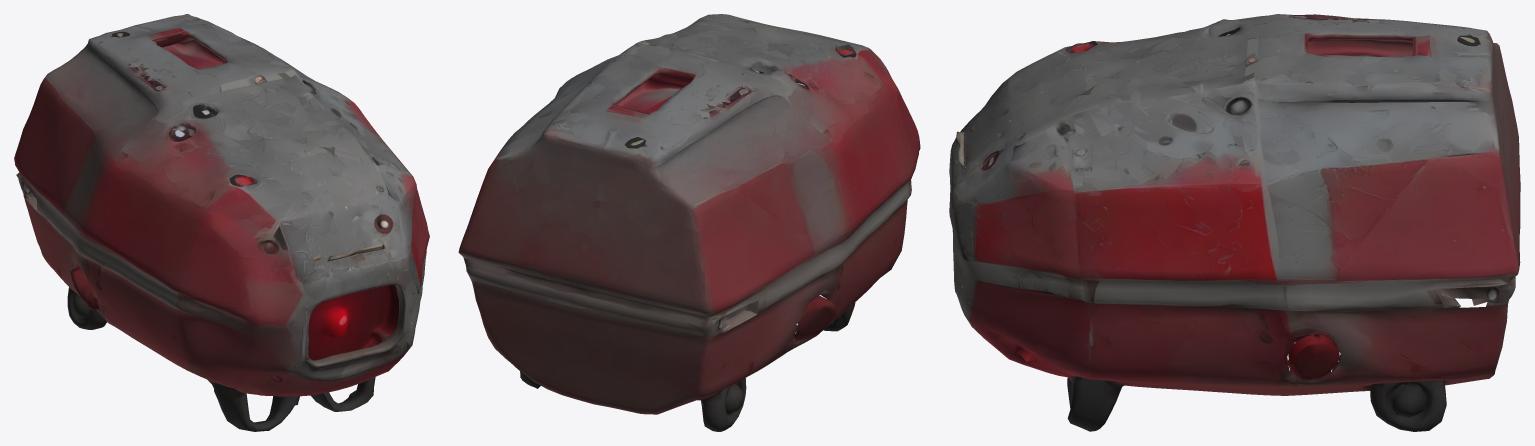
Rendered from lens_drone.glb.
3 renders of one model, left to right at view 1: azimuth 30°, elevation 25°; view 2: azimuth 150°, elevation 25°; view 3: azimuth 270°, elevation 25°, orthographic. The views are drawn at different scales.
Parts seen in each view (by area): view 1: tripo_node_6153249d; view 2: tripo_node_6153249d; view 3: tripo_node_6153249d.
Part boxes in pixels (<box>): tripo_node_6153249d: <box>14,14,429,431</box>; tripo_node_6153249d: <box>458,14,920,431</box>; tripo_node_6153249d: <box>949,14,1520,431</box>.
Size of the model in its own units: 71.61 by 69.2 by 99.81.
Materials: 1 (1 with a texture image).
